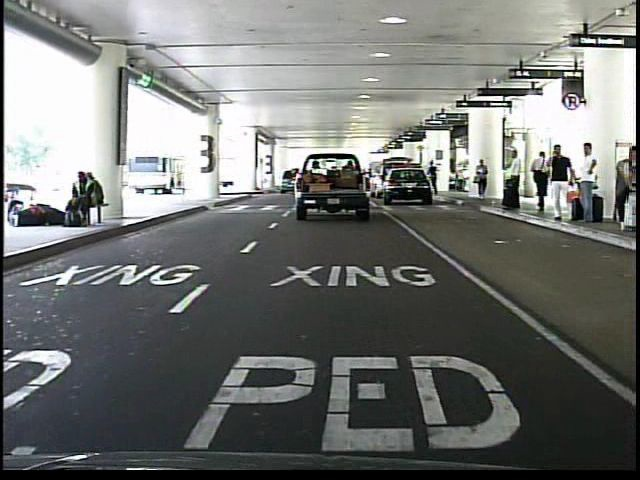person: (545, 142, 577, 228), (575, 137, 603, 231), (500, 148, 526, 213), (530, 145, 554, 214), (474, 159, 491, 203), (428, 161, 441, 199)
